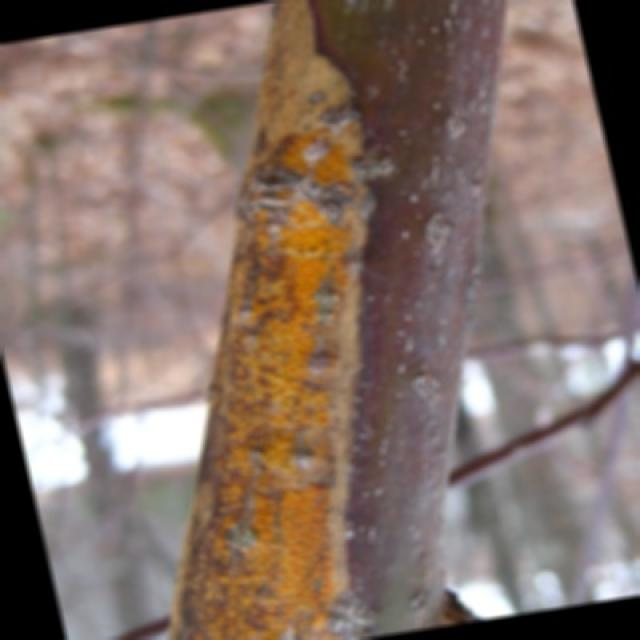Golden_canker: (160, 0, 381, 639)
